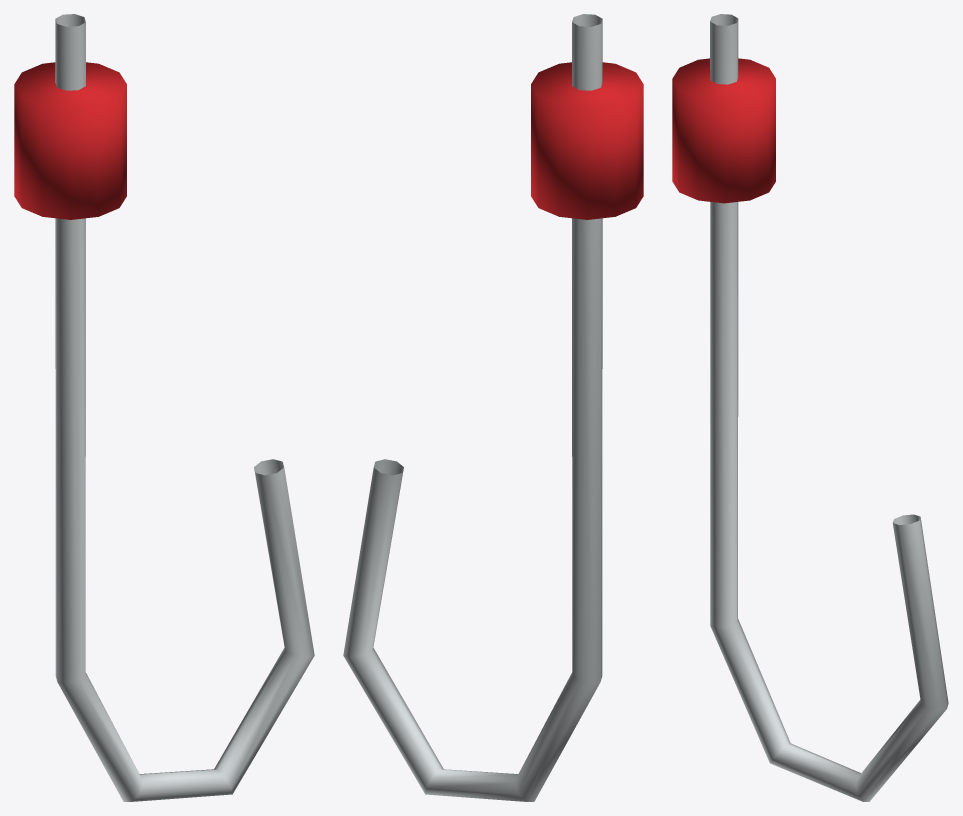
The model's file is harpe_hook.glb.
The picture shows the model from 3 angles, left to right: view 1: azimuth 30°, elevation 25°; view 2: azimuth 150°, elevation 25°; view 3: azimuth 330°, elevation 25°; orthographic projection. The views are drawn at different scales.
Visible parts, largest first — view 1: Stainless J hook, Red attractor bead; view 2: Stainless J hook, Red attractor bead; view 3: Stainless J hook, Red attractor bead.
Boxes of the visible parts, <box> form: Stainless J hook: <box>55,14,314,801</box>; Red attractor bead: <box>14,62,126,219</box>; Stainless J hook: <box>343,14,602,801</box>; Red attractor bead: <box>531,62,643,219</box>; Stainless J hook: <box>710,14,948,801</box>; Red attractor bead: <box>672,58,775,203</box>.
Size of the model in its own units: 0.0191 by 0.0508 by 0.0064.
